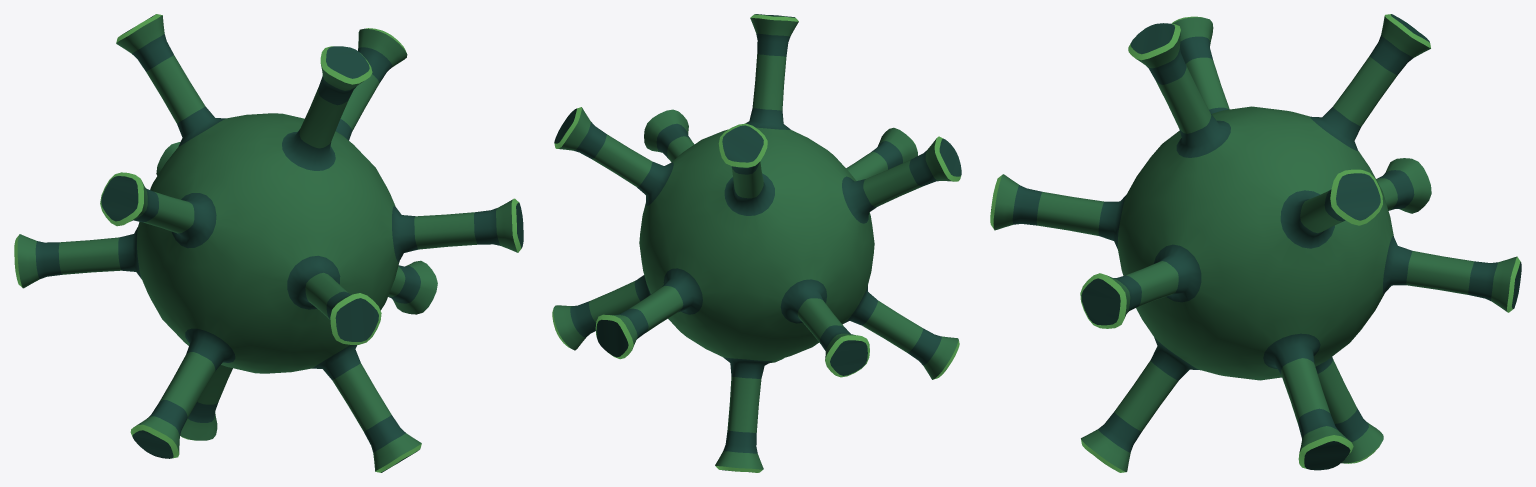
File: mechanical_virus.glb
3 renders of one model, left to right at view 1: azimuth 30°, elevation 25°; view 2: azimuth 150°, elevation 25°; view 3: azimuth 270°, elevation 25°, orthographic. The views are drawn at different scales.
Parts seen in each view (by area): view 1: Ball; view 2: Ball; view 3: Ball.
Part boxes in pixels (left/top/right/bottom): Ball: left=14, top=14, right=523, bottom=472; Ball: left=552, top=14, right=961, bottom=472; Ball: left=990, top=14, right=1521, bottom=472.
Bounding box in the file's own units: 0.2938 × 0.3186 × 0.3349.
Materials: 2 (2 with a texture image).
